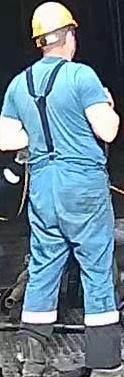helmet: (30, 1, 78, 39)
